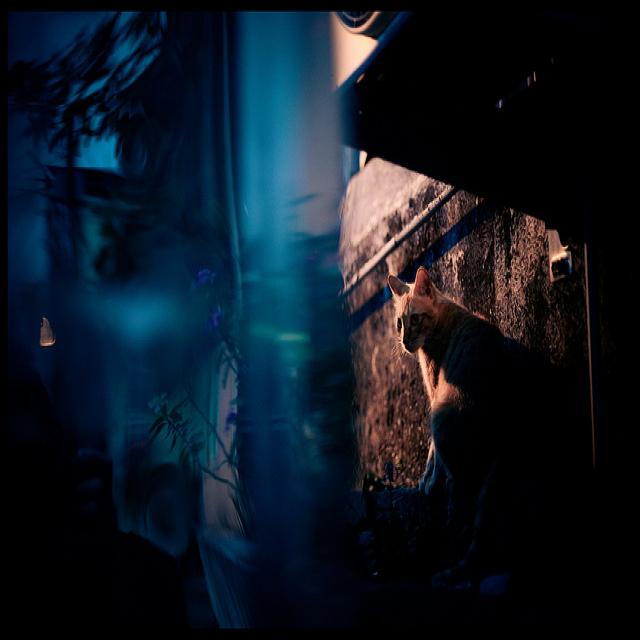Cat: (380, 258, 542, 556)
